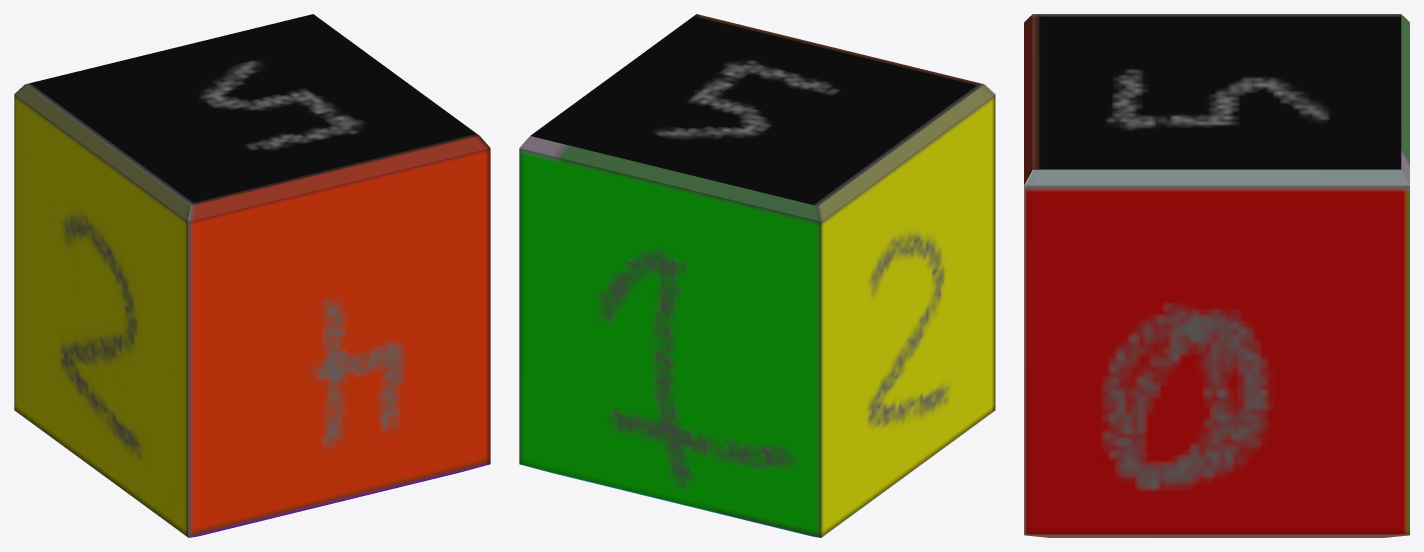
File: testcube.obj
The picture shows the model from 3 angles, left to right: view 1: azimuth 30°, elevation 25°; view 2: azimuth 150°, elevation 25°; view 3: azimuth 270°, elevation 25°; orthographic projection. The views are drawn at different scales.
Parts seen in each view (by area): view 1: Cube; view 2: Cube; view 3: Cube.
Part boxes in pixels (box(x1,y1,x2,y2)): Cube: box(14, 14, 490, 537); Cube: box(519, 14, 995, 537); Cube: box(1024, 14, 1409, 537).
Bounding box in the file's own units: 2 × 2.15 × 2.
